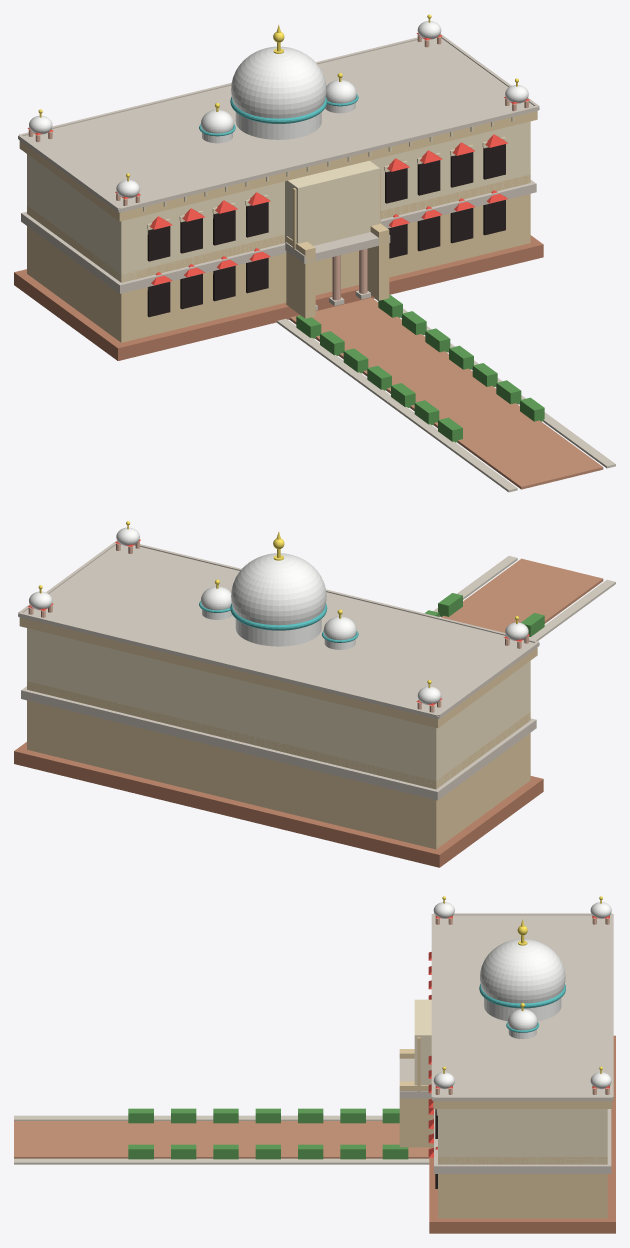
File: Hospital.glb
3 renders of one model, top to bottom at view 1: azimuth 30°, elevation 25°; view 2: azimuth 150°, elevation 25°; view 3: azimuth 270°, elevation 25°, orthographic. The views are drawn at different scales.
Visible parts, largest first — view 1: ParapetCap, GF_Body, FF_Body, Path, Plinth, Balcony, CentralDome, Parapet, Cornice, Rail_-4.22, PathBorder_-2.4, PorchWall_-1.8 (+22 smaller); view 2: ParapetCap, FF_Body, GF_Body, Plinth, Path, Cornice, CentralDome, Parapet, Rail_4.22, DomeDrum, Rail_-4.22, PathBorder_-2.4 (+5 smaller); view 3: ParapetCap, Path, FF_Body, GF_Body, CentralDome, Plinth, PathBorder_2.4, Cornice, PorchWall_1.8, Parapet, Balcony, PathBorder_-2.4 (+7 smaller).
Part boxes in pixels (<box>): ParapetCap: <box>18,38,539,212</box>; GF_Body: <box>27,174,530,342</box>; FF_Body: <box>27,121,530,282</box>; Path: <box>289,297,603,489</box>; Plinth: <box>14,235,543,360</box>; Balcony: <box>285,160,379,245</box>; CentralDome: <box>231,46,326,123</box>; Parapet: <box>19,111,537,221</box>; Cornice: <box>21,180,536,293</box>; Rail_-4.22: <box>119,106,538,212</box>; PathBorder_-2.4: <box>277,319,517,492</box>; PorchWall_-1.8: <box>286,236,315,318</box>; ParapetCap: <box>18,544,539,719</box>; FF_Body: <box>27,628,530,788</box>; GF_Body: <box>27,681,530,849</box>; Plinth: <box>14,742,543,867</box>; Path: <box>441,558,603,632</box>; Cornice: <box>21,686,536,800</box>; CentralDome: <box>231,553,326,630</box>; Parapet: <box>19,617,537,728</box>; Rail_4.22: <box>19,612,438,718</box>; DomeDrum: <box>235,619,321,646</box>; Rail_-4.22: <box>134,544,538,642</box>; PathBorder_-2.4: <box>529,579,615,640</box>; ParapetCap: <box>432,915,613,1100</box>; Path: <box>14,1121,429,1158</box>; FF_Body: <box>438,1109,607,1164</box>; GF_Body: <box>438,1157,607,1218</box>; CentralDome: <box>480,939,565,1008</box>; Plinth: <box>429,1035,615,1233</box>; PathBorder_2.4: <box>14,1158,429,1164</box>; Cornice: <box>434,1109,611,1173</box>; PorchWall_1.8: <box>399,1081,433,1147</box>; Parapet: <box>433,1101,612,1108</box>; Balcony: <box>414,999,431,1085</box>; PathBorder_-2.4: <box>14,1115,382,1120</box>.
Bounding box in the file's own units: 20.8 × 11.57 × 28.4.
